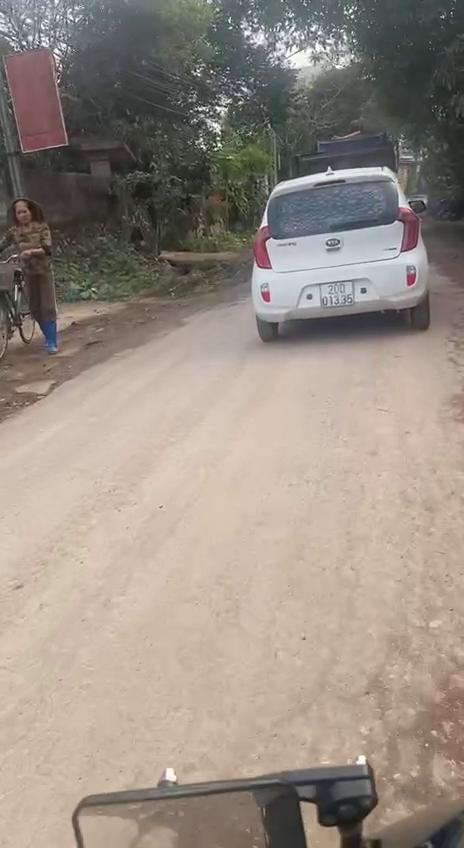pothole: (348, 653, 464, 818)
